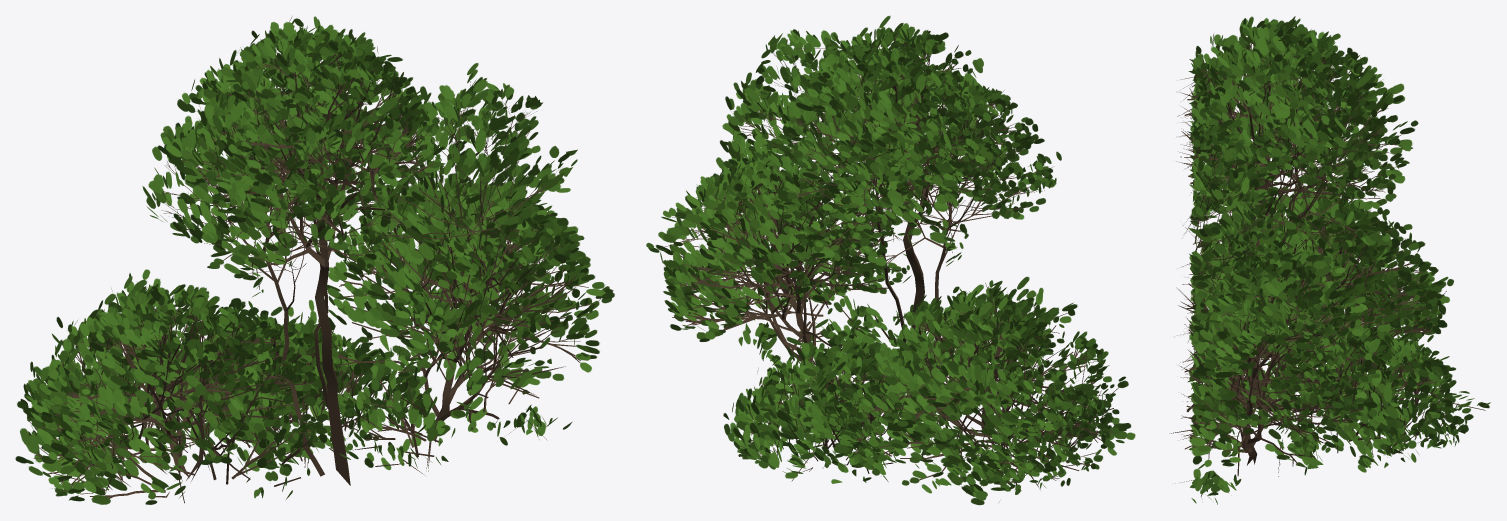
3 renders of one model, left to right at view 1: azimuth 30°, elevation 25°; view 2: azimuth 150°, elevation 25°; view 3: azimuth 270°, elevation 25°, orthographic. The views are drawn at different scales.
Visible parts, largest first — view 1: oak 01.001_trunk_Mat.001_0.433; view 2: oak 01.001_trunk_Mat.001_0.433; view 3: oak 01.001_trunk_Mat.001_0.433.
Part boxes in pixels (x1,y1,x2,y2): oak 01.001_trunk_Mat.001_0.433: (15, 16, 614, 504); oak 01.001_trunk_Mat.001_0.433: (646, 16, 1135, 505); oak 01.001_trunk_Mat.001_0.433: (1169, 16, 1490, 504).
Bounding box in the file's own units: 4.25 × 3.45 × 2.5.
2 materials, 1 textured.
